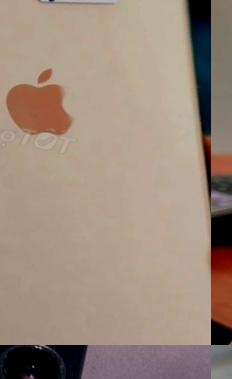scratch: (0, 345, 87, 379)
